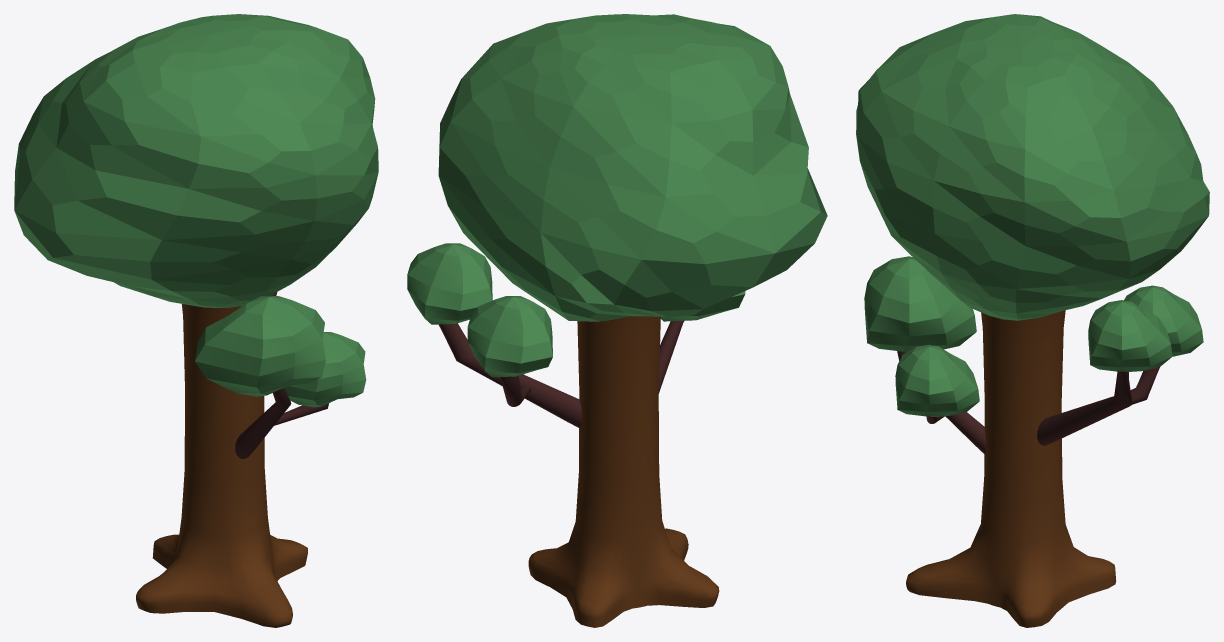
The model's file is tree.fbx.
3 views of the same model, side by side, from view 1: azimuth 30°, elevation 25°; view 2: azimuth 150°, elevation 25°; view 3: azimuth 270°, elevation 25° (orthographic). The views are drawn at different scales.
Visible parts, largest first — view 1: pCylinder8; view 2: pCylinder8; view 3: pCylinder8.
Part boxes in pixels (x1,y1,x2,y2): pCylinder8: (14, 14, 378, 627); pCylinder8: (407, 14, 827, 627); pCylinder8: (856, 14, 1209, 627).
Size of the model in its own units: 7.54 by 11.63 by 6.95.
